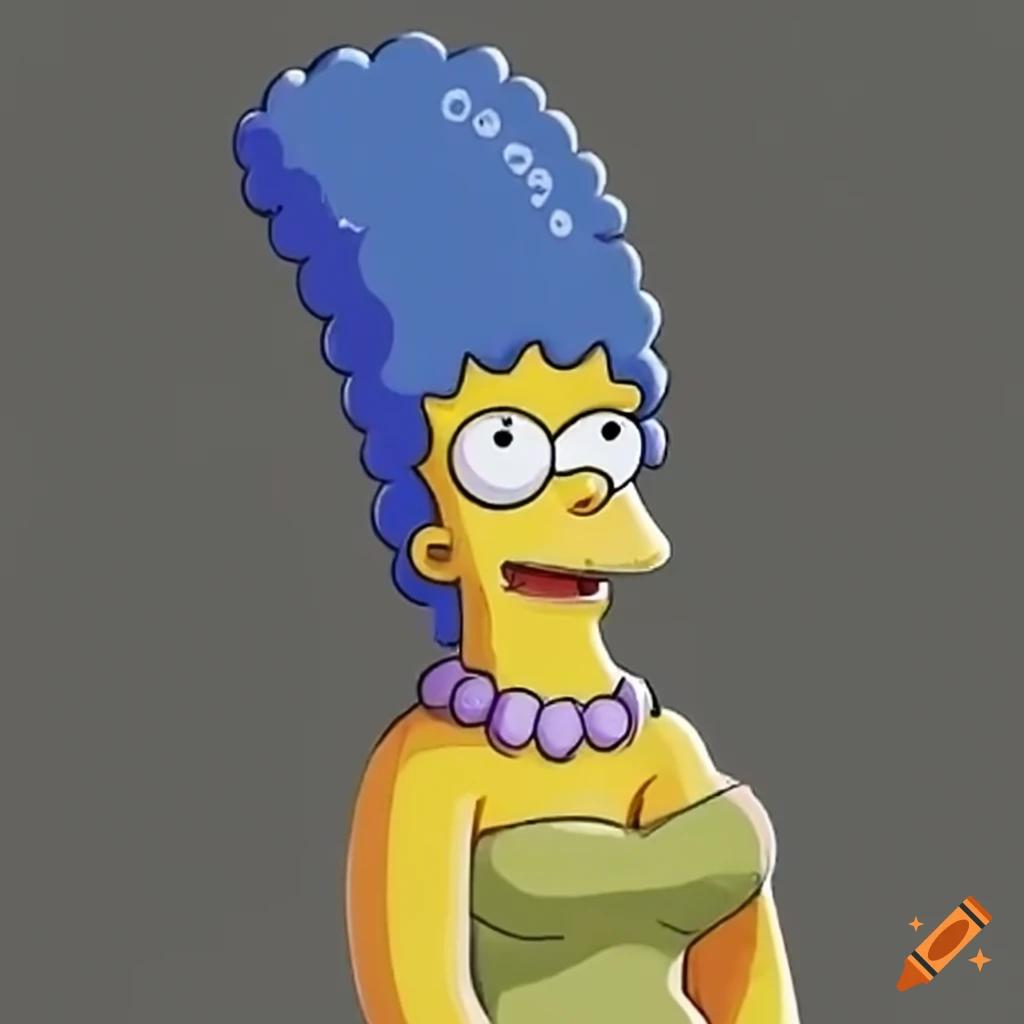Marge: (176, 32, 826, 1024)
